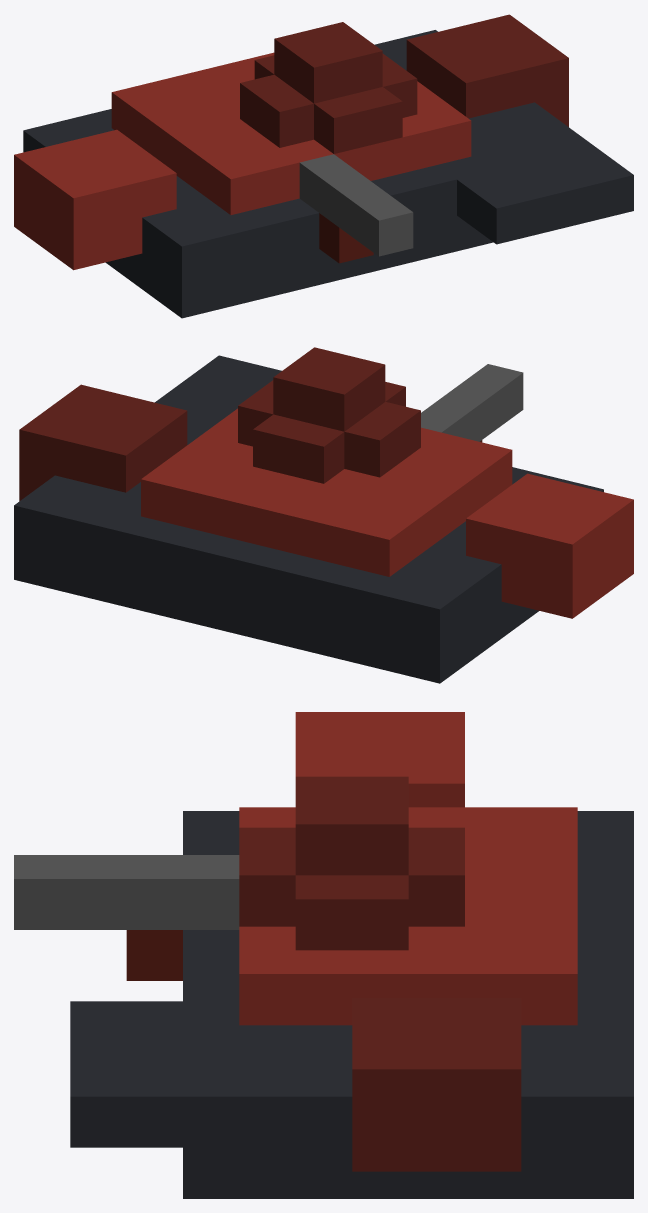
The model's file is mech_turret_light_destroyed.glb.
3 renders of one model, top to bottom at view 1: azimuth 30°, elevation 25°; view 2: azimuth 150°, elevation 25°; view 3: azimuth 270°, elevation 25°, orthographic. The views are drawn at different scales.
Visible parts, largest first — view 1: Wreck mesh, Dome mesh, Barrel mesh, Ember mesh; view 2: Wreck mesh, Dome mesh, Barrel mesh; view 3: Wreck mesh, Dome mesh, Barrel mesh, Ember mesh.
Part boxes in pixels (x1,y1,x2,y2): Wreck mesh: (14, 14, 633, 318); Dome mesh: (240, 22, 417, 153); Barrel mesh: (299, 154, 413, 256); Ember mesh: (319, 213, 373, 263); Wreck mesh: (14, 355, 633, 683); Dome mesh: (238, 347, 420, 483); Barrel mesh: (421, 364, 523, 441); Wreck mesh: (70, 712, 633, 1198); Dome mesh: (239, 776, 464, 950); Barrel mesh: (14, 855, 239, 929); Ember mesh: (126, 930, 182, 980).
Size of the model in its own units: 15 by 5 by 11.
Materials: 1 (1 with a texture image).
